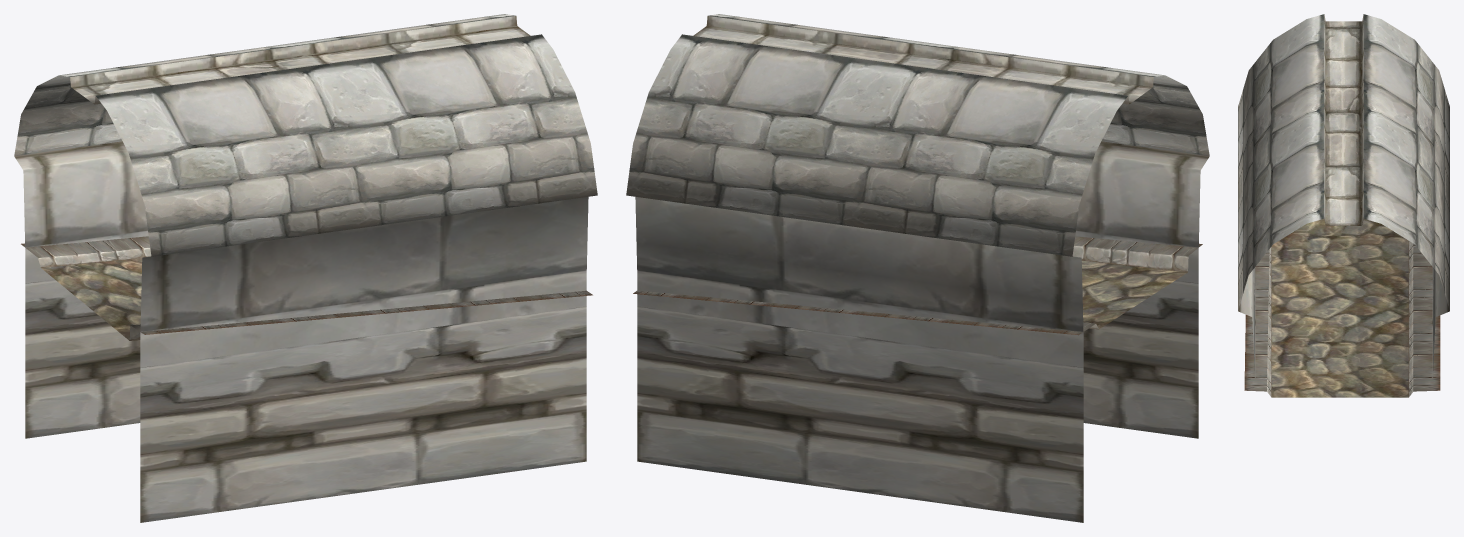
Rendered from stormwind_039.fbx.
3 views of the same model, side by side, from view 1: azimuth 30°, elevation 25°; view 2: azimuth 150°, elevation 25°; view 3: azimuth 270°, elevation 25° (orthographic). The views are drawn at different scales.
Parts seen in each view (by area): view 1: stormwind_039_11, stormwind_039_4, stormwind_039_5, stormwind_039_12, stormwind_039_46; view 2: stormwind_039_11, stormwind_039_4, stormwind_039_5, stormwind_039_12, stormwind_039_46; view 3: stormwind_039_4, stormwind_039_46, stormwind_039_5, stormwind_039_12, stormwind_039_11.
Part boxes in pixels (left/top/right/bottom): stormwind_039_11: left=14, top=141, right=588, bottom=522; stormwind_039_4: left=14, top=14, right=597, bottom=256; stormwind_039_5: left=70, top=16, right=530, bottom=104; stormwind_039_12: left=21, top=236, right=592, bottom=340; stormwind_039_46: left=41, top=258, right=142, bottom=340; stormwind_039_11: left=635, top=141, right=1209, bottom=522; stormwind_039_4: left=626, top=14, right=1209, bottom=256; stormwind_039_5: left=693, top=16, right=1153, bottom=104; stormwind_039_12: left=633, top=236, right=1202, bottom=335; stormwind_039_46: left=1081, top=260, right=1187, bottom=329; stormwind_039_4: left=1238, top=14, right=1449, bottom=310; stormwind_039_46: left=1271, top=219, right=1408, bottom=397; stormwind_039_5: left=1324, top=14, right=1363, bottom=225; stormwind_039_12: left=1244, top=241, right=1440, bottom=397; stormwind_039_11: left=1238, top=267, right=1449, bottom=377.
Size of the model in its own units: 18.89 by 17.88 by 10.07.
